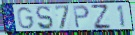1: (117, 4, 126, 29)
7: (55, 5, 71, 31)
G: (16, 6, 36, 30)
P: (72, 5, 91, 30)
S: (35, 5, 55, 31)
Z: (90, 3, 113, 30)
